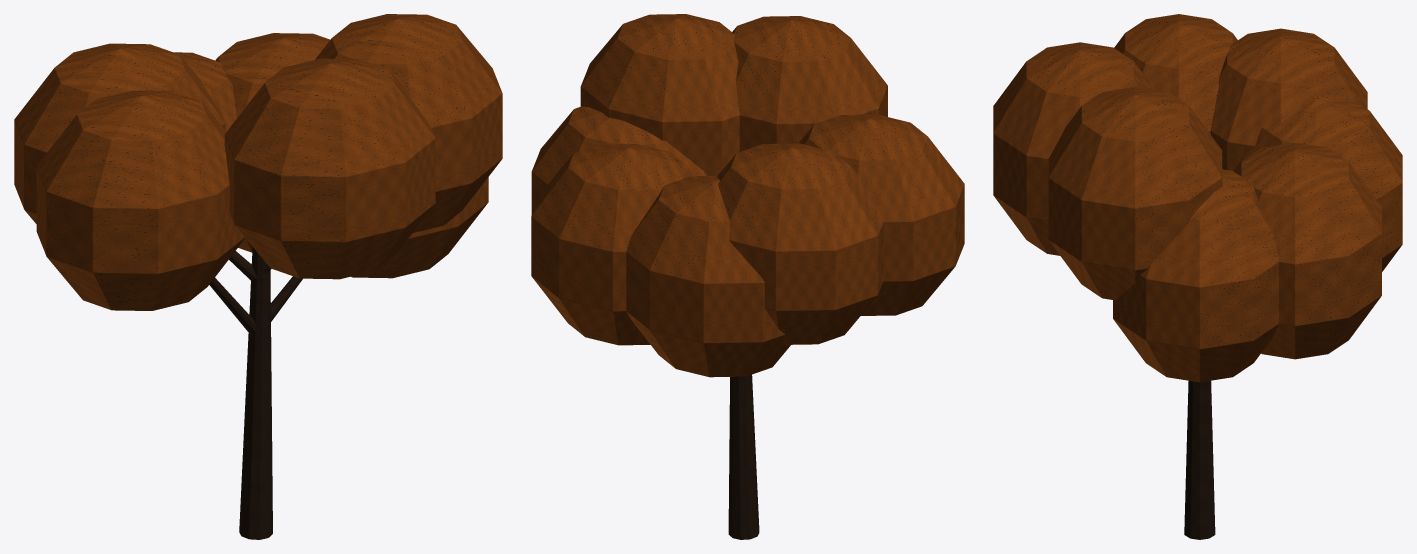
The model's file is PROP-635CD1A62687_lod1.glb.
3 renders of one model, left to right at view 1: azimuth 30°, elevation 25°; view 2: azimuth 150°, elevation 25°; view 3: azimuth 270°, elevation 25°, orthographic. The views are drawn at different scales.
Visible parts, largest first — view 1: leaf_crown.088, trunk.080, branch.052; view 2: leaf_crown.088, trunk.080; view 3: leaf_crown.088, trunk.080.
Part boxes in pixels (x1,y1,x2,y2): leaf_crown.088: [14, 14, 502, 310]; trunk.080: [239, 247, 272, 539]; branch.052: [209, 251, 302, 335]; leaf_crown.088: [531, 14, 964, 377]; trunk.080: [728, 374, 759, 539]; leaf_crown.088: [993, 14, 1402, 382]; trunk.080: [1184, 380, 1215, 539].
Bounding box in the file's own units: 7.19 × 7.96 × 6.05.
Materials: 2 (2 with a texture image).
